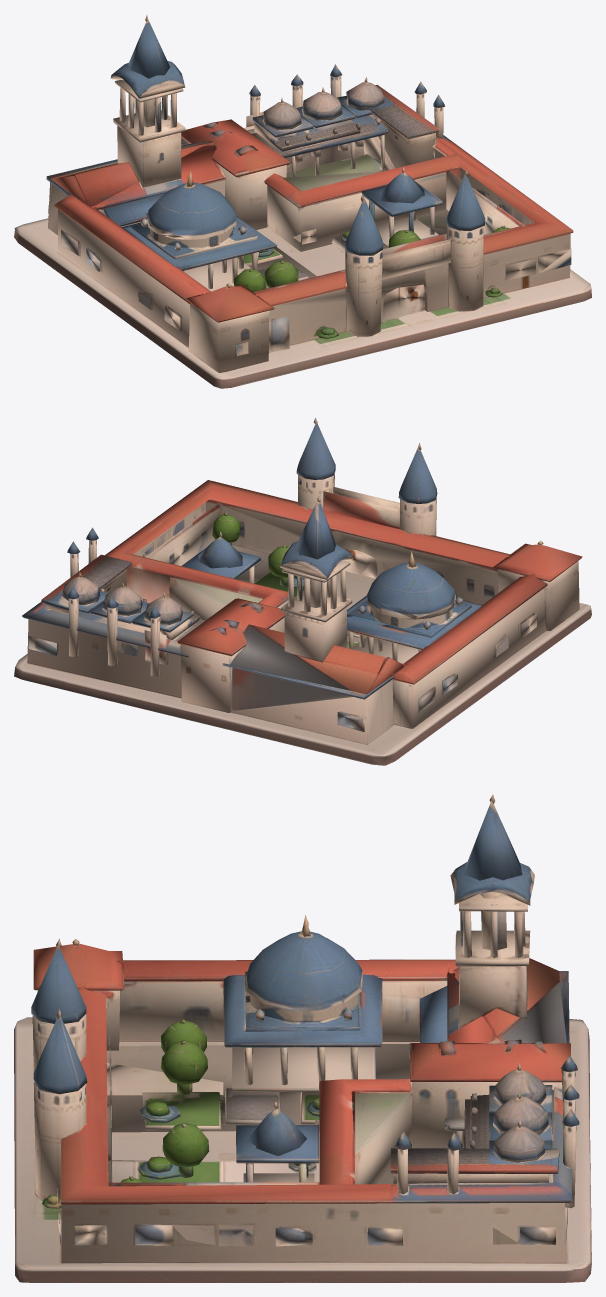
Rendered from topkapi-palace.glb.
3 renders of one model, top to bottom at view 1: azimuth 30°, elevation 25°; view 2: azimuth 150°, elevation 25°; view 3: azimuth 270°, elevation 25°, orthographic. The views are drawn at different scales.
Visible parts, largest first — view 1: mesh_node; view 2: mesh_node; view 3: mesh_node.
Part boxes in pixels (x1,y1,x2,y2): mesh_node: [14, 15, 591, 388]; mesh_node: [14, 417, 591, 765]; mesh_node: [14, 794, 591, 1282].
Bounding box in the file's own units: 1 × 0.5664 × 0.9688.
1 material, 1 textured.
